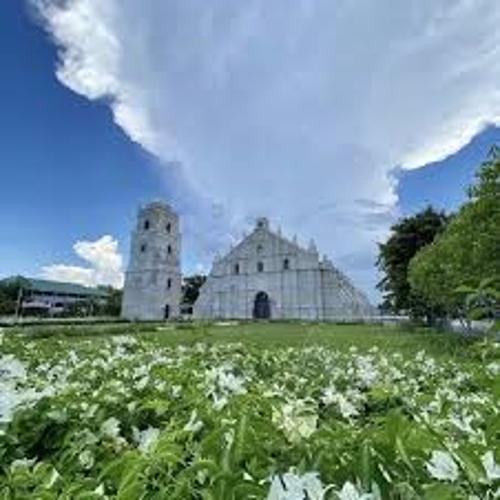Paoay Church: (112, 188, 378, 338)
